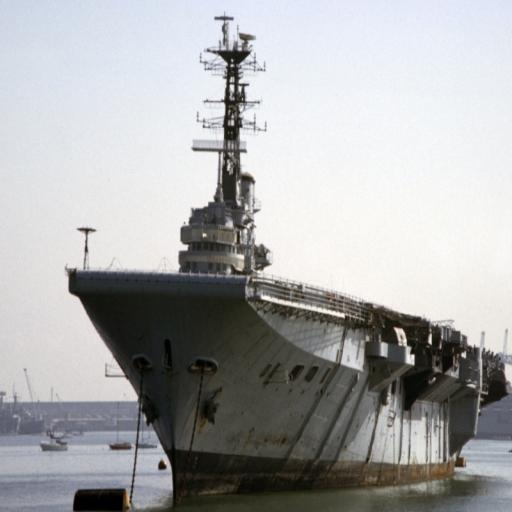Portanaves: (67, 12, 499, 506)
